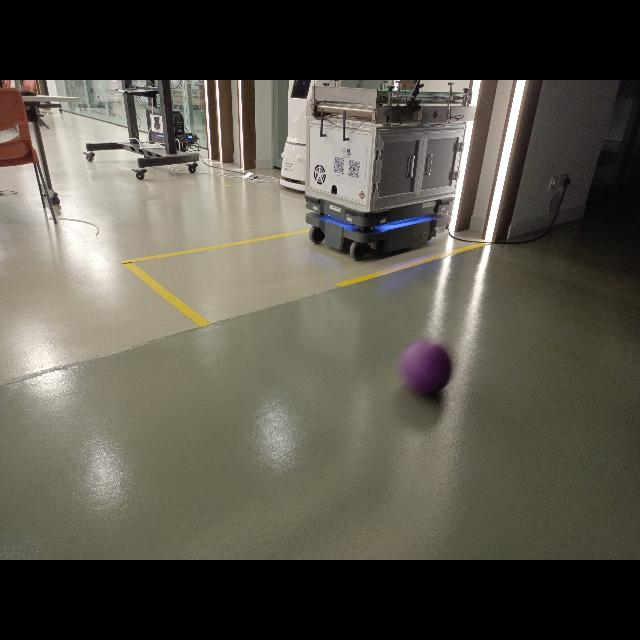P: (396, 339, 452, 395)
